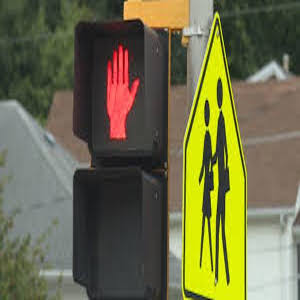red: (100, 47, 142, 138)
